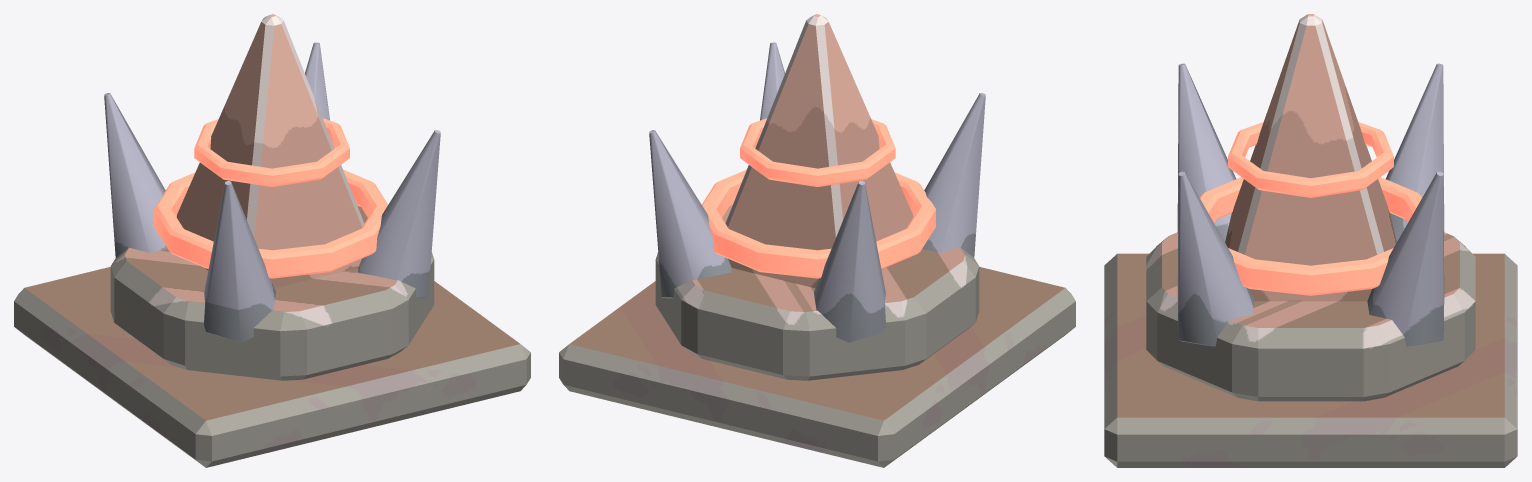
The model's file is R4X_DamageBooster_LOD1.glb.
The picture shows the model from 3 angles, left to right: view 1: azimuth 30°, elevation 25°; view 2: azimuth 150°, elevation 25°; view 3: azimuth 270°, elevation 25°; orthographic projection. The views are drawn at different scales.
Parts seen in each view (by area): view 1: R4X_DamageBooster_LOD1; view 2: R4X_DamageBooster_LOD1; view 3: R4X_DamageBooster_LOD1.
Boxes of the visible parts, bbox=[...] form: R4X_DamageBooster_LOD1: bbox=[14, 14, 530, 467]; R4X_DamageBooster_LOD1: bbox=[559, 14, 1075, 467]; R4X_DamageBooster_LOD1: bbox=[1104, 14, 1517, 467].
Size of the model in its own units: 0.52 by 0.515 by 0.52.
4 materials, 3 textured.
